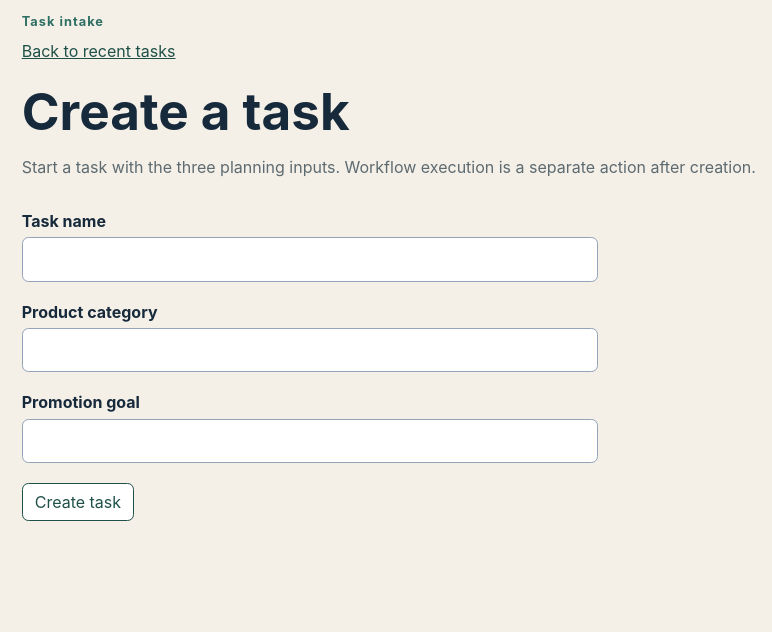
NewTaskRoute › keeps deterministic invalid failures safe and does not expose the key
Step 1. Type "Launch" into the field labelled "Task name" → x=310, y=259, box [22, 237, 598, 282]
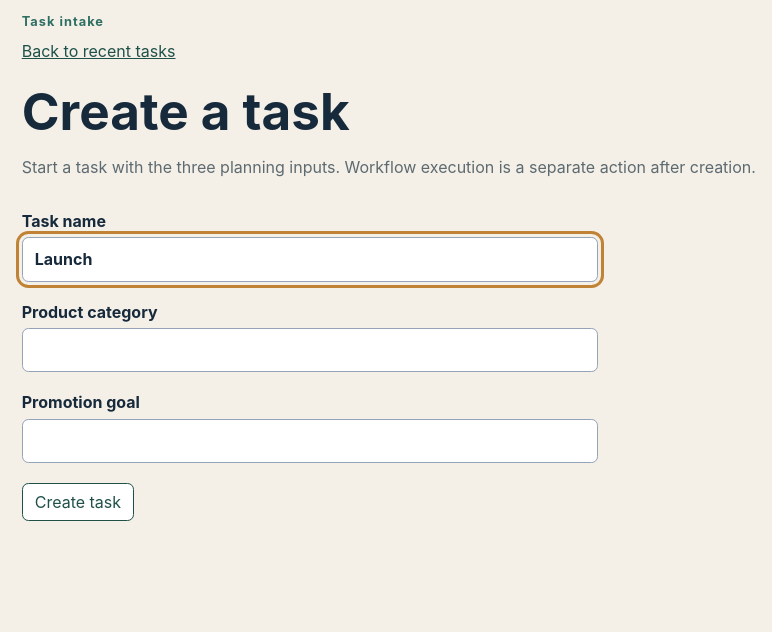
Step 2. Type "Backpack" into the field labelled "Product category" → x=310, y=350, box [22, 328, 598, 372]
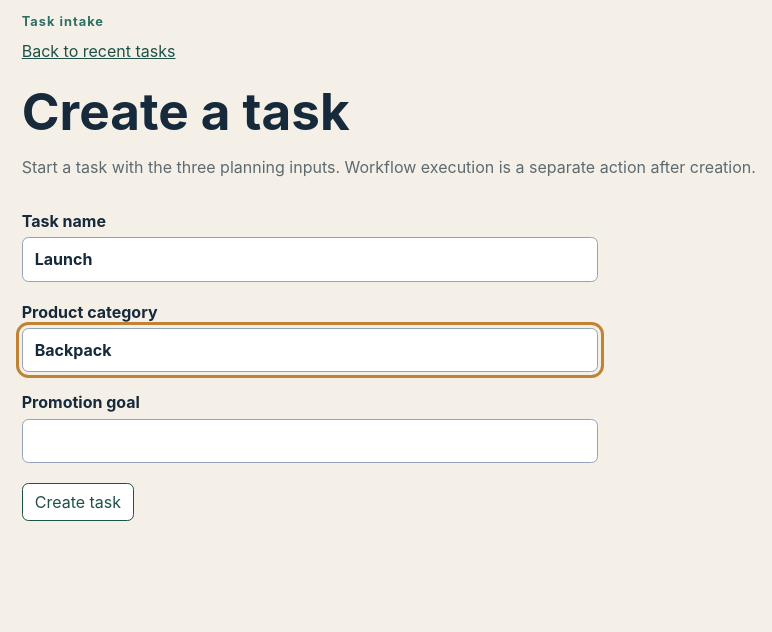
Step 3. Type "Awareness" into the field labelled "Promotion goal" → x=310, y=441, box [22, 419, 598, 463]
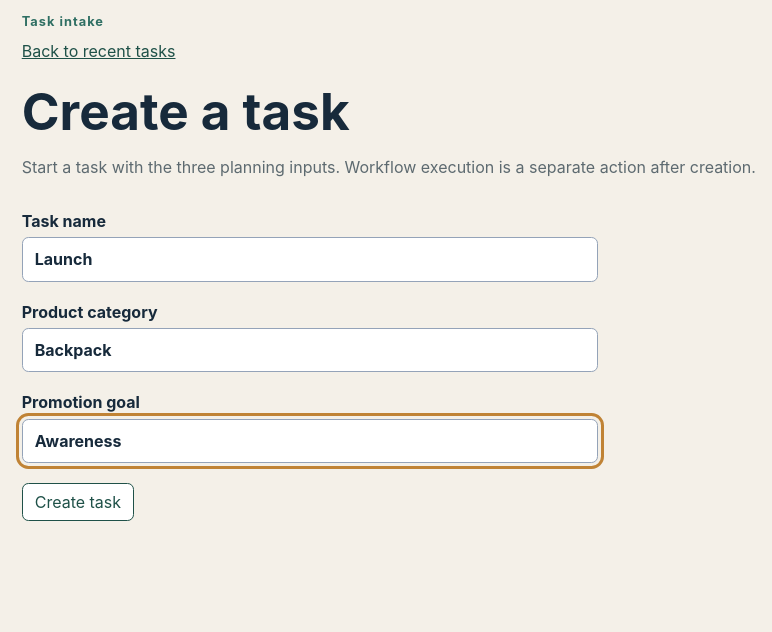
Step 4. Click the button "Create task" → x=78, y=502, box [22, 483, 134, 521]
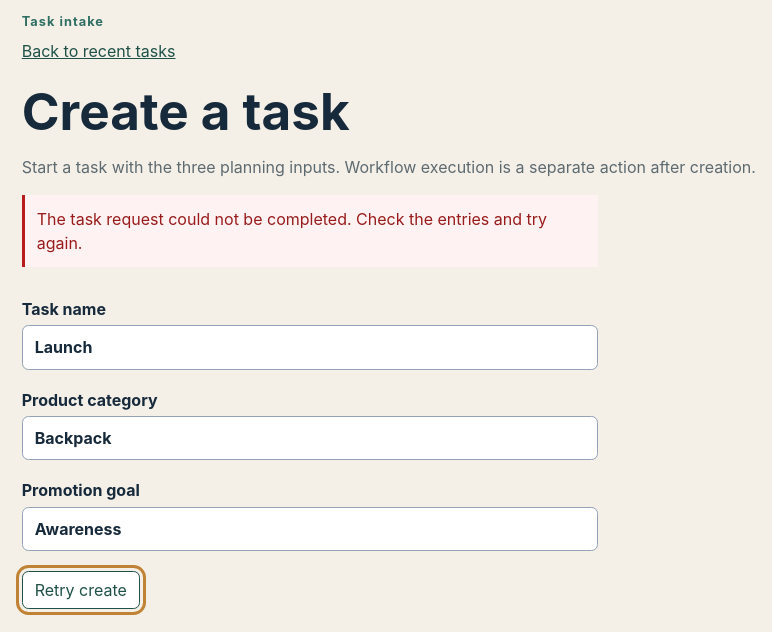
Result: the message shows "could not be completed" at [37, 209, 547, 253]
